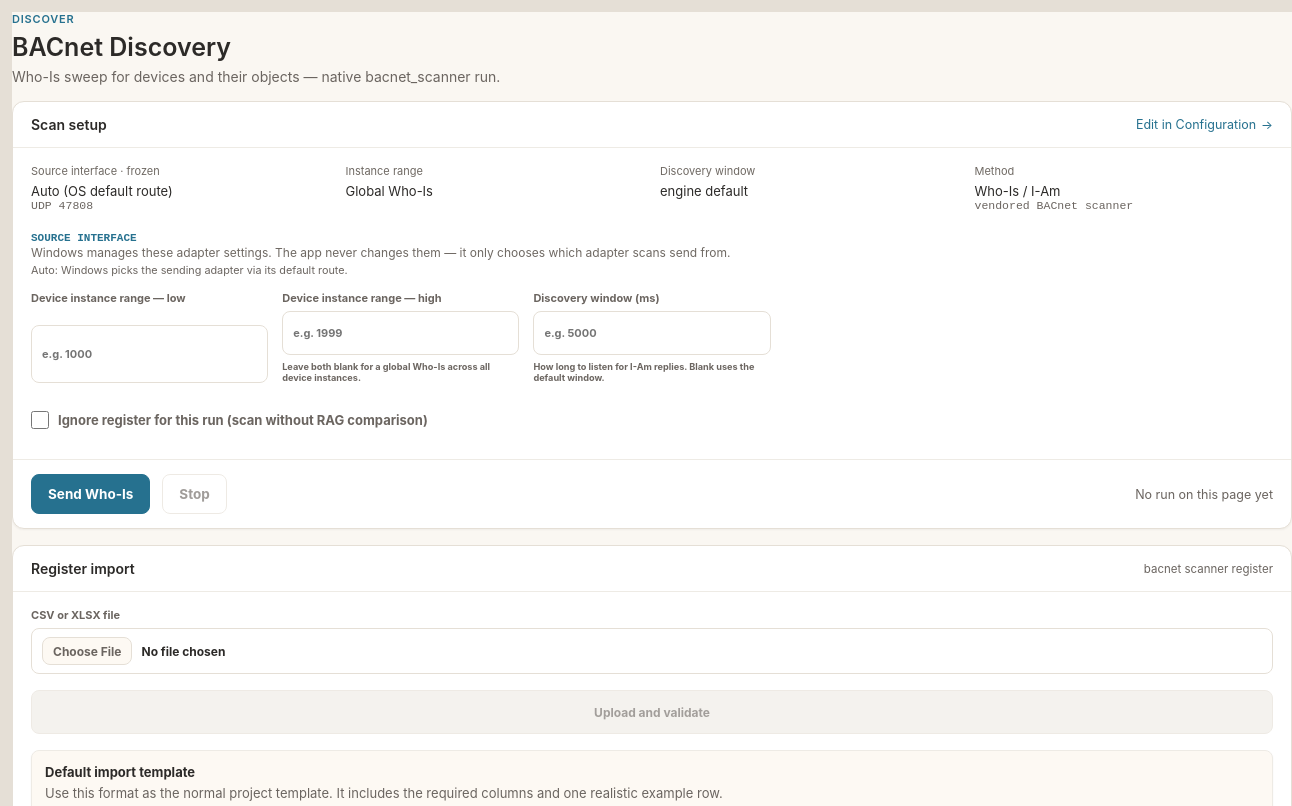
BacnetScannerPage › blocks Send Who-Is on a half-filled instance range
In the field labelled "Device instance range — low": (150, 354) [31,325,268,383], type "100"
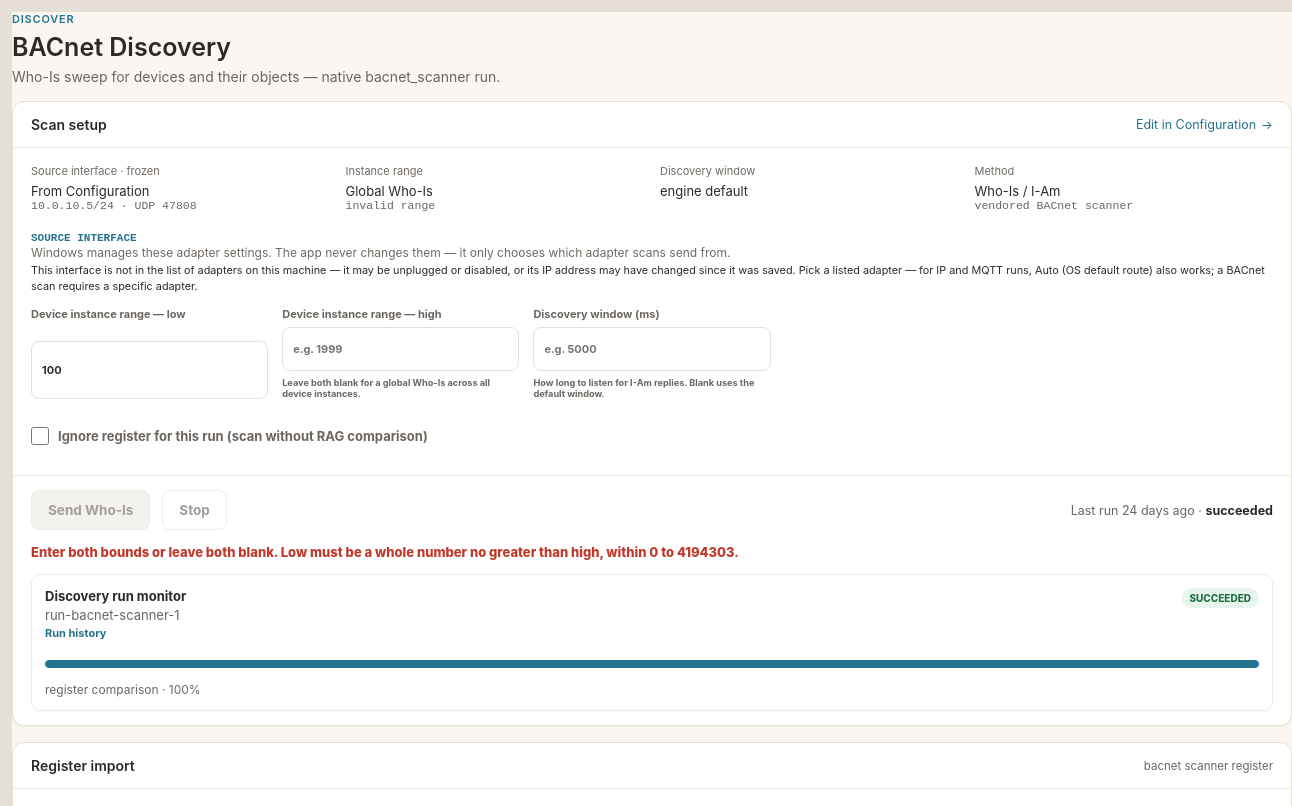
Now the button "Send Who-Is" is disabled, box [31,490,150,530]
Now the message shows "Enter both bounds or leave both blank", box [31,544,739,560]
